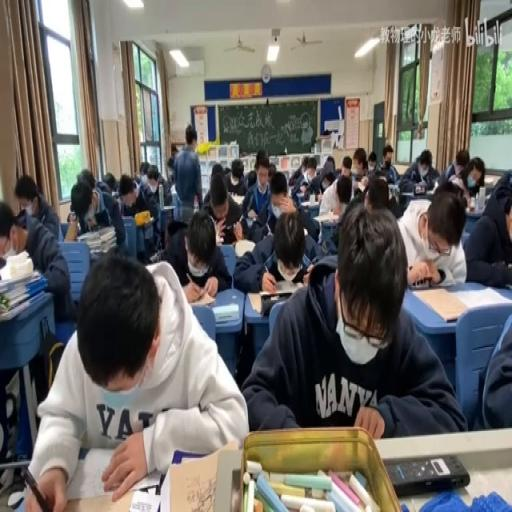calculator: (164, 441, 238, 512), (384, 454, 470, 496), (411, 286, 466, 320), (248, 286, 302, 314), (0, 289, 45, 321), (455, 286, 509, 310), (0, 264, 38, 294), (128, 488, 160, 512), (188, 288, 217, 306), (213, 302, 239, 322), (234, 238, 256, 256), (298, 194, 320, 208), (90, 244, 112, 258), (64, 219, 78, 240), (482, 185, 498, 203), (132, 215, 154, 226), (314, 212, 338, 222), (463, 205, 485, 215), (402, 190, 428, 198), (389, 183, 399, 202), (230, 194, 244, 206), (302, 252, 312, 266), (483, 175, 496, 183), (160, 204, 174, 210), (246, 211, 254, 219)
paper: (21, 252, 242, 508), (242, 202, 460, 439), (161, 199, 230, 293), (462, 174, 512, 288), (473, 303, 512, 431), (68, 174, 123, 258), (269, 169, 320, 245), (324, 176, 370, 252), (14, 174, 62, 240), (173, 122, 202, 222), (136, 165, 168, 249), (242, 154, 274, 234), (397, 146, 438, 205), (440, 148, 474, 188), (374, 142, 401, 184), (224, 157, 247, 199), (364, 175, 390, 209), (288, 155, 310, 191), (350, 151, 368, 183), (493, 168, 512, 198), (469, 158, 485, 186), (100, 170, 118, 194), (92, 186, 106, 215), (270, 189, 288, 211), (78, 166, 94, 190), (119, 176, 134, 199), (339, 155, 352, 181), (502, 201, 510, 243), (165, 153, 175, 185), (12, 209, 26, 229), (323, 154, 335, 176), (244, 168, 256, 189), (366, 150, 376, 174), (307, 158, 317, 179), (210, 162, 224, 176), (148, 170, 158, 188), (139, 161, 149, 175), (170, 142, 180, 156), (267, 161, 276, 176), (353, 186, 362, 199), (301, 160, 307, 174)
person: (411, 278, 432, 288), (506, 282, 512, 288)
